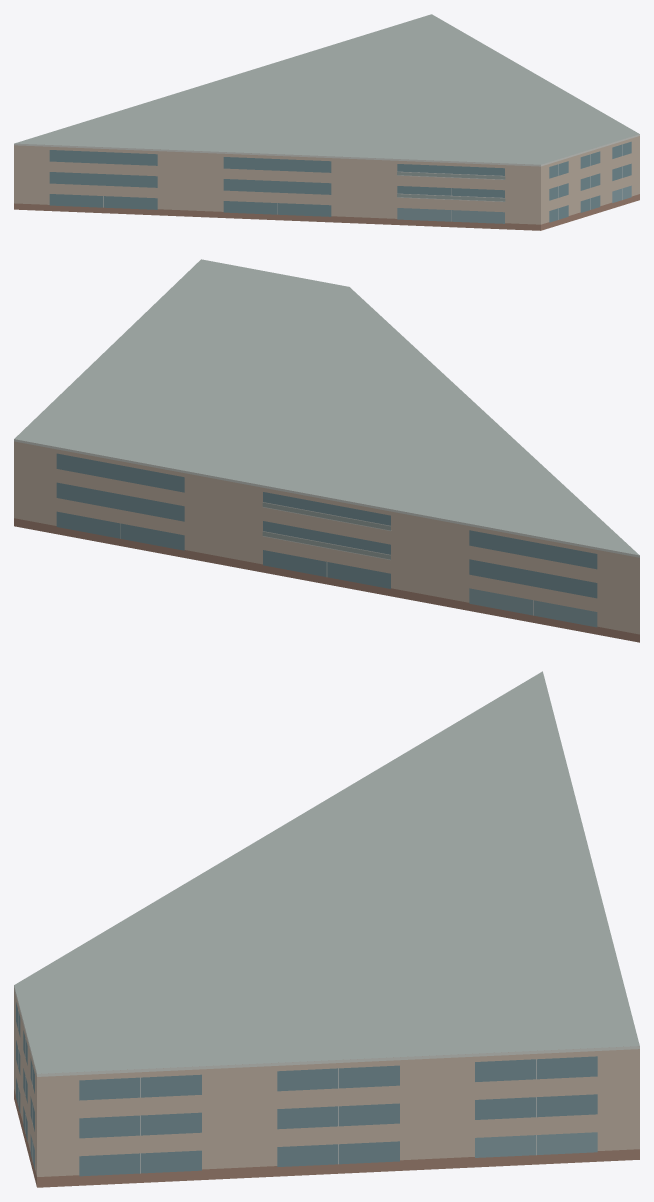
Rendered from residential-a60bedec-12a9-4c9e-b94f-24643c659d8b.glb.
3 views of the same model, one above another, from view 1: azimuth 30°, elevation 25°; view 2: azimuth 150°, elevation 25°; view 3: azimuth 270°, elevation 25° (orthographic). The views are drawn at different scales.
Parts seen in each view (by area): view 1: residential-a60bedec-12a9-4c9e-b94f-24643c659d8b.tmp; view 2: residential-a60bedec-12a9-4c9e-b94f-24643c659d8b.tmp; view 3: residential-a60bedec-12a9-4c9e-b94f-24643c659d8b.tmp.
Part boxes in pixels (x1,y1,x2,y2): residential-a60bedec-12a9-4c9e-b94f-24643c659d8b.tmp: (14, 14, 639, 230); residential-a60bedec-12a9-4c9e-b94f-24643c659d8b.tmp: (14, 259, 639, 642); residential-a60bedec-12a9-4c9e-b94f-24643c659d8b.tmp: (14, 671, 639, 1187).
Size of the model in its own units: 69.5 by 9.15 by 45.64.
